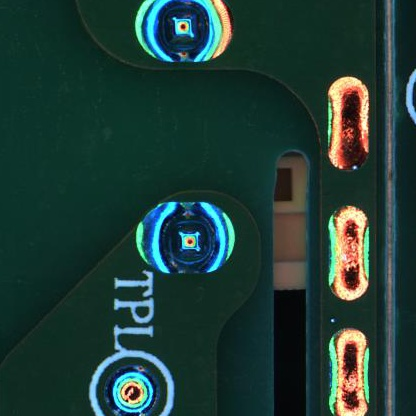spot: (126, 189, 247, 286)
